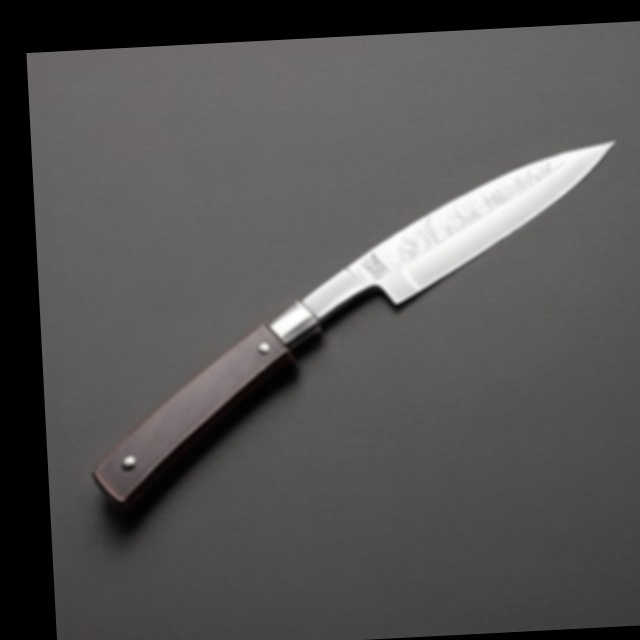Sharp-Object: (41, 136, 640, 522)
